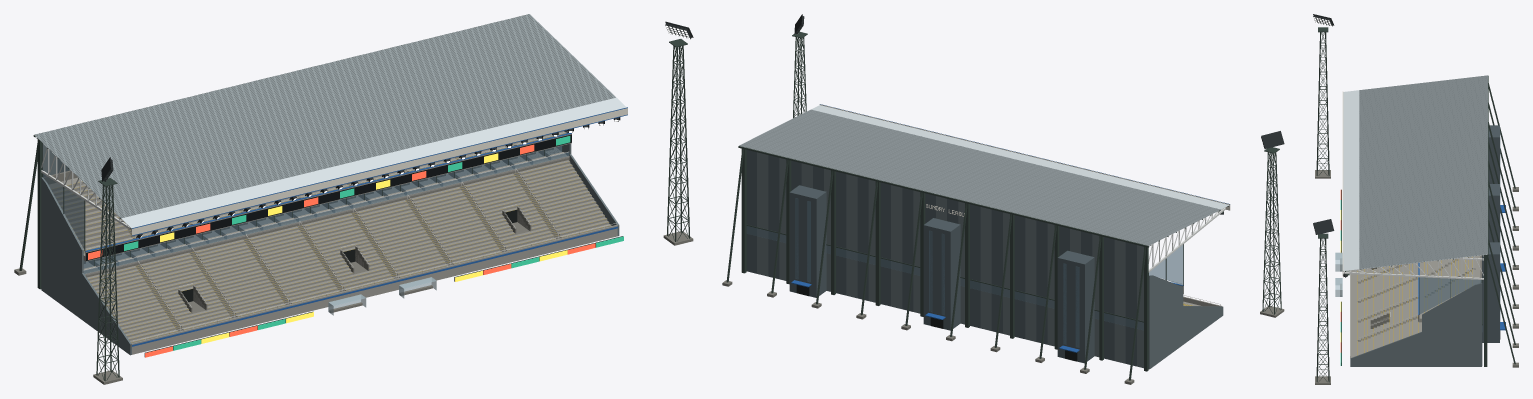
The model's file is big_stand.glb.
3 views of the same model, side by side, from view 1: azimuth 30°, elevation 25°; view 2: azimuth 150°, elevation 25°; view 3: azimuth 270°, elevation 25° (orthographic). The views are drawn at different scales.
Visible parts, largest first — view 1: BigStand_Roof_Sheet, BigStand_Concrete, BigStand_Concrete_Dark, BigStand_Steel_Frame, BigStand_Glass_Skybox, BigStand_Cladding_A, BigStand_Roof_Translucent, BigStand_Step_Edge_Yellow, BigStand_Club_Secondary_Fascia, BigStand_Club_Primary_Trim, BigStand, BigStand_LED_Band (+5 smaller); view 2: BigStand_Cladding_B, BigStand_Roof_Sheet, BigStand_Cladding_A, BigStand_Steel_Frame, BigStand_Glass_Skybox, BigStand_Roof_Translucent, BigStand_Roof_Truss_White, BigStand_Club_Secondary_Fascia, BigStand_Concrete_Dark, BigStand_Club_Primary_Trim; view 3: BigStand_Roof_Sheet, BigStand_Concrete, BigStand_Cladding_A, BigStand_Steel_Frame, BigStand_Roof_Translucent, BigStand_Cladding_B, BigStand_Concrete_Dark, BigStand_Glass_Skybox, BigStand_Step_Edge_Yellow, BigStand_Roof_Truss_White, BigStand_Floodlight_Housing, BigStand_Club_Secondary_Fascia (+4 smaller).
Part boxes in pixels (box(x1,y1,x2,y2)): BigStand_Roof_Sheet: box(34, 14, 615, 218); BigStand_Concrete: box(49, 131, 617, 354); BigStand_Concrete_Dark: box(14, 143, 693, 384); BigStand_Steel_Frame: box(19, 36, 690, 381); BigStand_Glass_Skybox: box(43, 146, 569, 273); BigStand_Cladding_A: box(41, 130, 619, 355); BigStand_Roof_Translucent: box(121, 97, 626, 228); BigStand_Step_Edge_Yellow: box(67, 133, 609, 342); BigStand_Club_Secondary_Fascia: box(131, 108, 627, 235); BigStand_Club_Primary_Trim: box(85, 107, 627, 346); BigStand: box(88, 136, 623, 357); BigStand_LED_Band: box(86, 134, 571, 260); BigStand_Cladding_B: box(746, 150, 1136, 366); BigStand_Roof_Sheet: box(739, 109, 1220, 245); BigStand_Cladding_A: box(757, 152, 1223, 369); BigStand_Steel_Frame: box(726, 31, 1281, 380); BigStand_Glass_Skybox: box(747, 198, 1183, 347); BigStand_Roof_Translucent: box(811, 105, 1229, 209); BigStand_Roof_Truss_White: box(1148, 207, 1225, 272); BigStand_Club_Secondary_Fascia: box(819, 104, 1230, 216); BigStand_Concrete_Dark: box(722, 280, 1284, 384); BigStand_Club_Primary_Trim: box(791, 104, 1229, 352); BigStand_Roof_Sheet: box(1359, 75, 1487, 269); BigStand_Concrete: box(1350, 256, 1480, 358); BigStand_Cladding_A: box(1350, 283, 1481, 366); BigStand_Steel_Frame: box(1316, 27, 1515, 382); BigStand_Roof_Translucent: box(1343, 90, 1359, 270); BigStand_Cladding_B: box(1482, 125, 1499, 365); BigStand_Concrete_Dark: box(1315, 170, 1518, 384); BigStand_Glass_Skybox: box(1419, 132, 1500, 331); BigStand_Step_Edge_Yellow: box(1357, 257, 1472, 355); BigStand_Roof_Truss_White: box(1343, 255, 1483, 279); BigStand_Floodlight_Housing: box(1313, 14, 1347, 365); BigStand_Club_Secondary_Fascia: box(1342, 91, 1343, 275).
Bounding box in the file's own units: 126 × 43.99 × 51.26.
